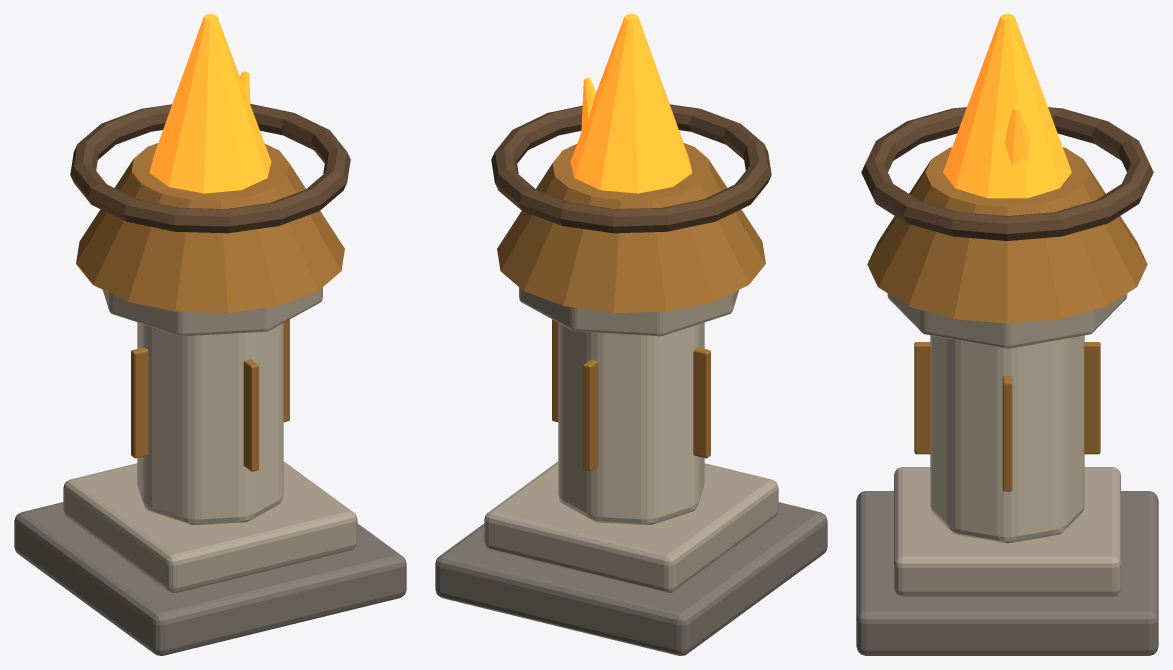
3 views of the same model, side by side, from view 1: azimuth 30°, elevation 25°; view 2: azimuth 150°, elevation 25°; view 3: azimuth 270°, elevation 25° (orthographic). The views are drawn at different scales.
Parts seen in each view (by area): view 1: WK_StonePedestalBrazier_LOD0_High; view 2: WK_StonePedestalBrazier_LOD0_High; view 3: WK_StonePedestalBrazier_LOD0_High.
Boxes of the visible parts, x1,y1,x2,y2 form: WK_StonePedestalBrazier_LOD0_High: (14, 14, 406, 655); WK_StonePedestalBrazier_LOD0_High: (435, 14, 827, 655); WK_StonePedestalBrazier_LOD0_High: (856, 14, 1158, 655).
Size of the model in its own units: 1.25 by 2.64 by 1.25.
